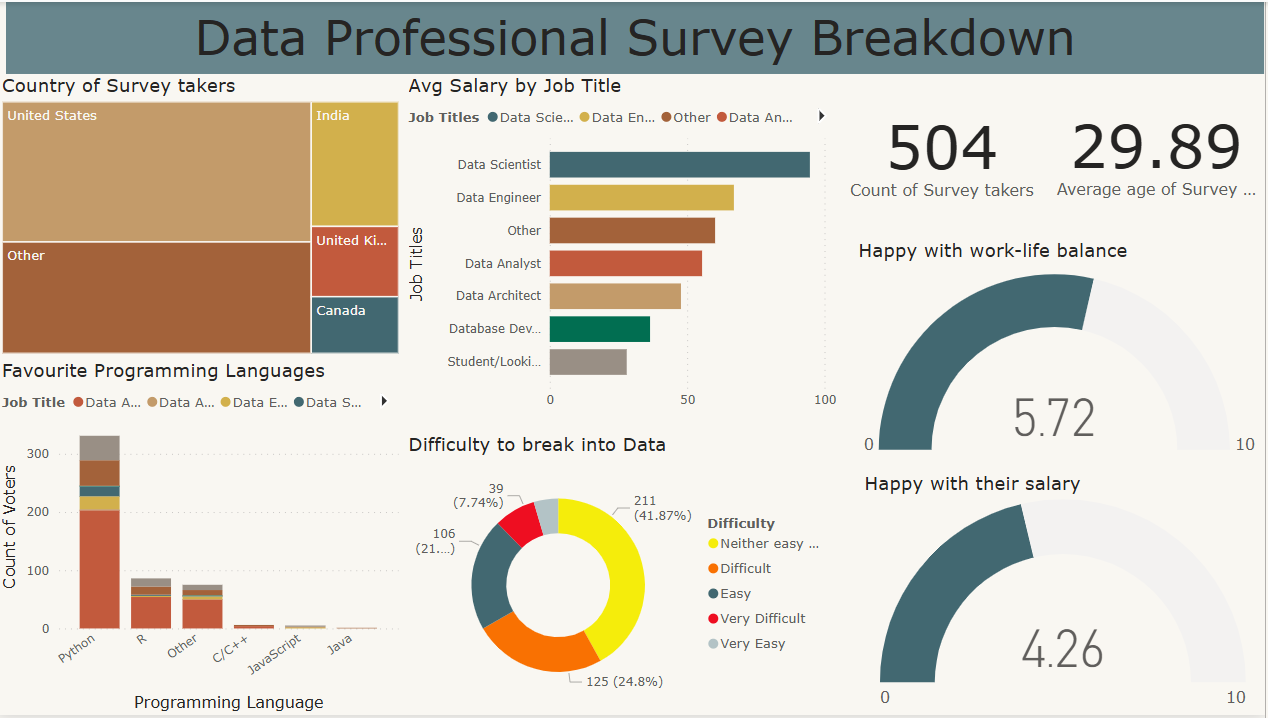

The dashboard page shown, as its layout file describes it:
{"tool":"powerbi","page":{"name":"Page 1","canvas":[1280,720],"ordinal":0},"visuals":[{"type":"textbox","box":[9.7,0,1270.1,72.8],"z":0},{"type":"card","fields":{"Values":["Count(Data Professional Survey.Unique ID)"]},"box":[851.7,75,205,151.7],"z":1000},{"type":"card","fields":{"Values":["Avg(Data Professional Survey.Q10 - Current Age)"]},"box":[1060,75,220,150],"z":2000},{"type":"barChart","title":"Avg Salary by Job Title","fields":{"Category":["Data Professional Survey.Q1 - Which Title Best Fits your Current Role?.1"],"Y":["Avg(Data Professional Survey.Avg Salary)"],"Series":["Data Professional Survey.Q1 - Which Title Best Fits your Current Role?.1"]},"box":[410,73.3,441.7,361.7],"z":3000},{"type":"columnChart","title":"Favourite Programming Languages","fields":{"Category":["Data Professional Survey.Q5 - Favorite Programming Language.1"],"Y":["CountNonNull(Data Professional Survey.Unique ID)"],"Series":["Data Professional Survey.Q1 - Which Title Best Fits your Current Role?.1"]},"box":[0,360,410,360],"z":4000},{"type":"treemap","title":"Country of Survey takers","fields":{"Values":["CountNonNull(Data Professional Survey.Q11 - Which Country do you live in?.1)"],"Details":["Data Professional Survey.Q11 - Which Country do you live in?.1"]},"box":[0,73.3,410,286.7],"z":5000},{"type":"gauge","title":"Happy with work-life balance","fields":{"Y":["Avg(Data Professional Survey.Q6 - How Happy are you in your Current Position with the following? (Work/Life Balance))"],"MinValue":["Min(Data Professional Survey.Q6 - How Happy are you in your Current Position with the following? (Work/Life Balance))1"],"MaxValue":["Max(Data Professional Survey.Q6 - How Happy are you in your Current Position with the following? (Work/Life Balance))2"]},"box":[865,240,415,230],"z":5001},{"type":"gauge","title":"Happy with their salary","fields":{"Y":["Avg(Data Professional Survey.Q6 - How Happy are you in your Current Position with the following? (Salary))"],"MinValue":["Min(Data Professional Survey.Q6 - How Happy are you in your Current Position with the following? (Salary))1"],"MaxValue":["Max(Data Professional Survey.Q6 - How Happy are you in your Current Position with the following? (Salary))2"]},"box":[870,473.3,410,246.7],"z":5002},{"type":"donutChart","title":"Difficulty to break into Data","fields":{"Category":["Data Professional Survey.Q7 - How difficult was it for you to break into Data?"],"Y":["CountNonNull(Data Professional Survey.Q7 - How difficult was it for you to break into Data?)"]},"box":[410,435,441.7,285],"z":5003}]}

Visuals, with their boxes in screenshot pixels (x1, y1, x2, y2), scaled from the page's 1280x720 canvas onto the 1268x718 screenshot:
textbox: select_region(10, 0, 1267, 73)
card - Count(Data Professional Survey.Unique ID): select_region(844, 75, 1047, 226)
card - Avg(Data Professional Survey.Q10 - Current Age): select_region(1050, 75, 1267, 224)
"Avg Salary by Job Title" barChart: select_region(406, 73, 844, 434)
"Favourite Programming Languages" columnChart: select_region(0, 359, 406, 717)
"Country of Survey takers" treemap: select_region(0, 73, 406, 359)
"Happy with work-life balance" gauge: select_region(857, 239, 1267, 469)
"Happy with their salary" gauge: select_region(862, 472, 1267, 717)
"Difficulty to break into Data" donutChart: select_region(406, 434, 844, 717)
